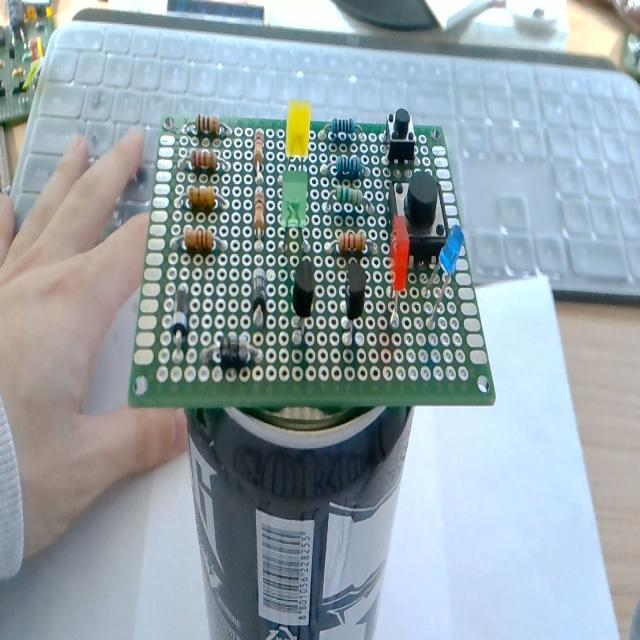diode: (250, 260, 270, 330)
led: (276, 168, 316, 255), (432, 222, 464, 320), (385, 218, 411, 324), (279, 100, 315, 169)
resistor: (168, 222, 226, 260), (172, 140, 228, 177), (330, 178, 374, 220), (322, 143, 371, 180), (184, 108, 230, 142), (181, 182, 228, 212), (331, 228, 377, 258), (322, 118, 363, 142), (253, 178, 267, 246), (253, 122, 269, 178)
switch: (385, 113, 420, 166)
transistor: (285, 256, 325, 356), (332, 254, 370, 348)
